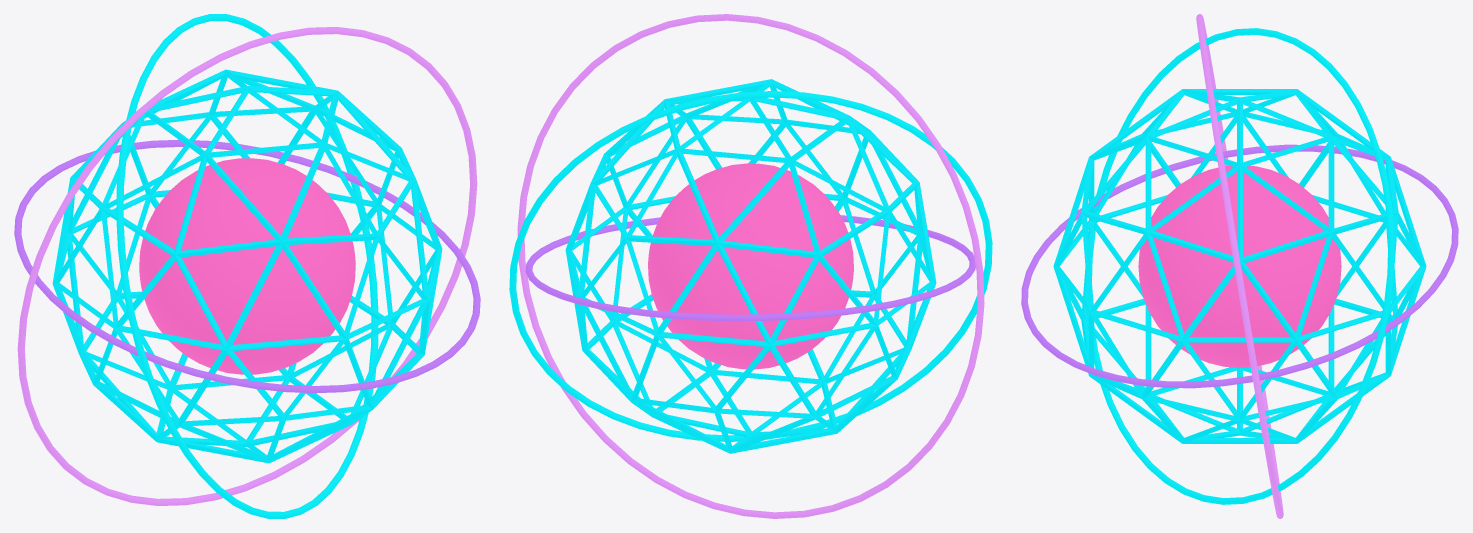
Rendered from hero_core.glb.
3 views of the same model, side by side, from view 1: azimuth 30°, elevation 25°; view 2: azimuth 150°, elevation 25°; view 3: azimuth 270°, elevation 25° (orthographic). The views are drawn at different scales.
Visible parts, largest first — view 1: HeroCore_wire, HeroCore_inner, HeroCore_ring2, HeroCore_ring1, HeroCore_ring0; view 2: HeroCore_wire, HeroCore_inner, HeroCore_ring2, HeroCore_ring1, HeroCore_ring0; view 3: HeroCore_wire, HeroCore_inner, HeroCore_ring1, HeroCore_ring0, HeroCore_ring2.
Boxes of the visible parts, box(x1,y1,x2,y2) form: HeroCore_wire: box(52, 69, 442, 463); HeroCore_inner: box(139, 158, 355, 374); HeroCore_ring2: box(17, 27, 477, 505); HeroCore_ring1: box(116, 14, 378, 518); HeroCore_ring0: box(14, 139, 480, 393); HeroCore_wire: box(565, 79, 936, 453); HeroCore_inner: box(648, 163, 853, 369); HeroCore_ring2: box(517, 14, 984, 518); HeroCore_ring1: box(509, 91, 992, 441); HeroCore_ring0: box(525, 215, 975, 321); HeroCore_wire: box(1053, 89, 1426, 443); HeroCore_inner: box(1138, 165, 1341, 367); HeroCore_ring1: box(1087, 28, 1394, 504); HeroCore_ring0: box(1021, 144, 1458, 388); HeroCore_ring2: box(1196, 14, 1283, 518).
Bounding box in the file's own units: 3.62 × 3.58 × 3.1.
